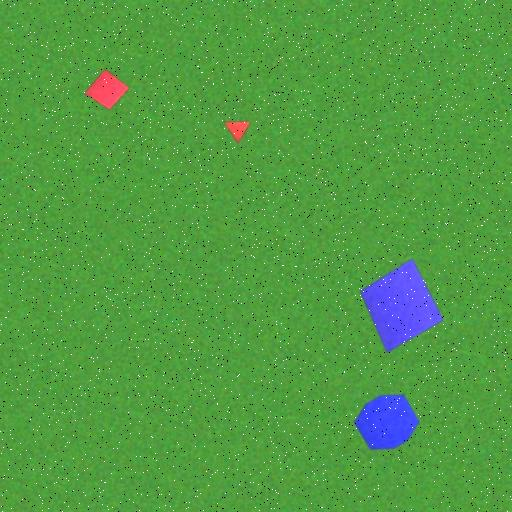BLUE_SQUARE: (360, 258, 444, 354)
RED_SQUARE: (84, 68, 130, 110)
